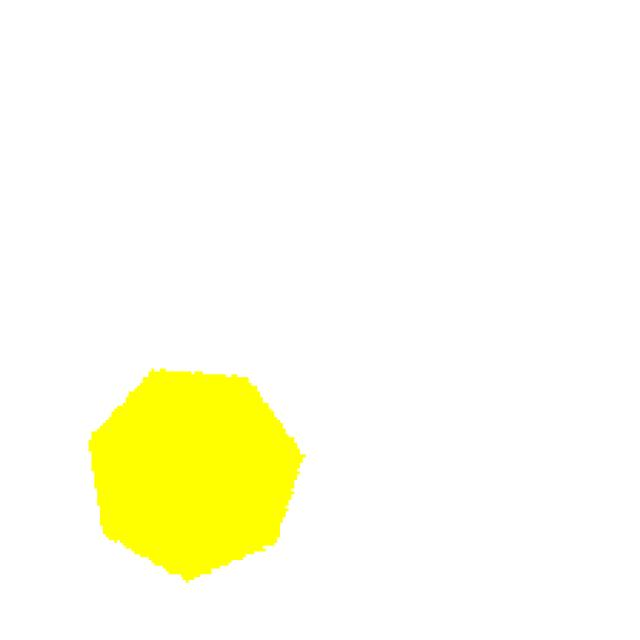Heptagon: (66, 340, 330, 594)
